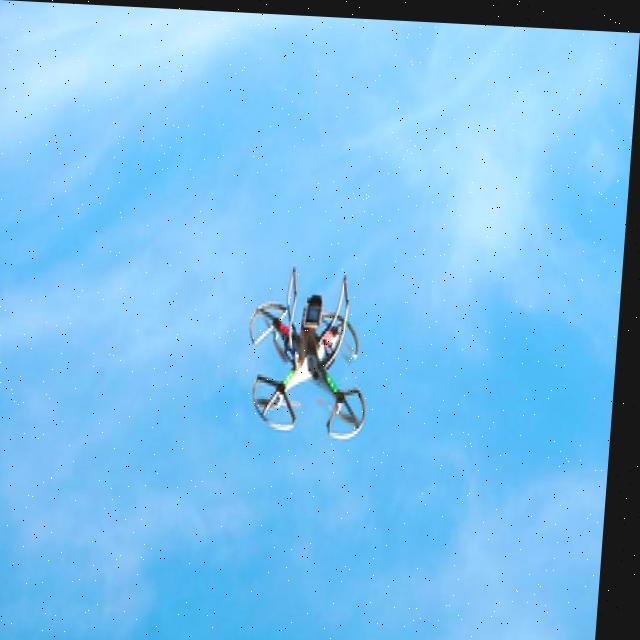drone: (226, 278, 396, 461)
